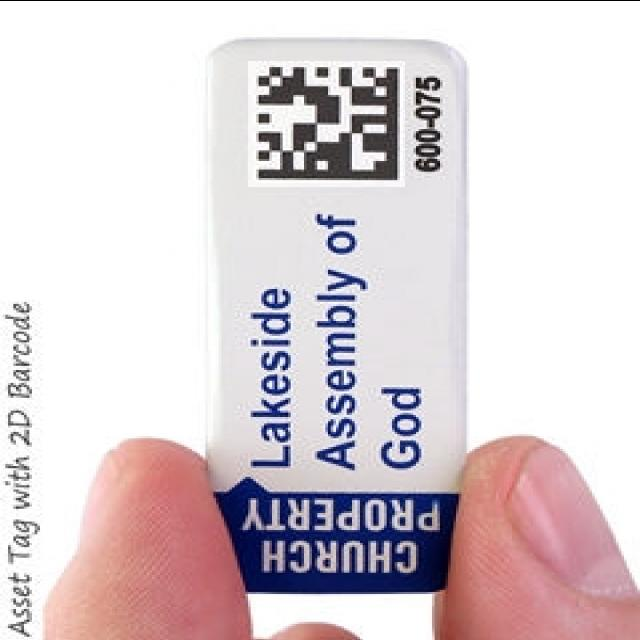DataMatrix: (248, 60, 405, 186)
